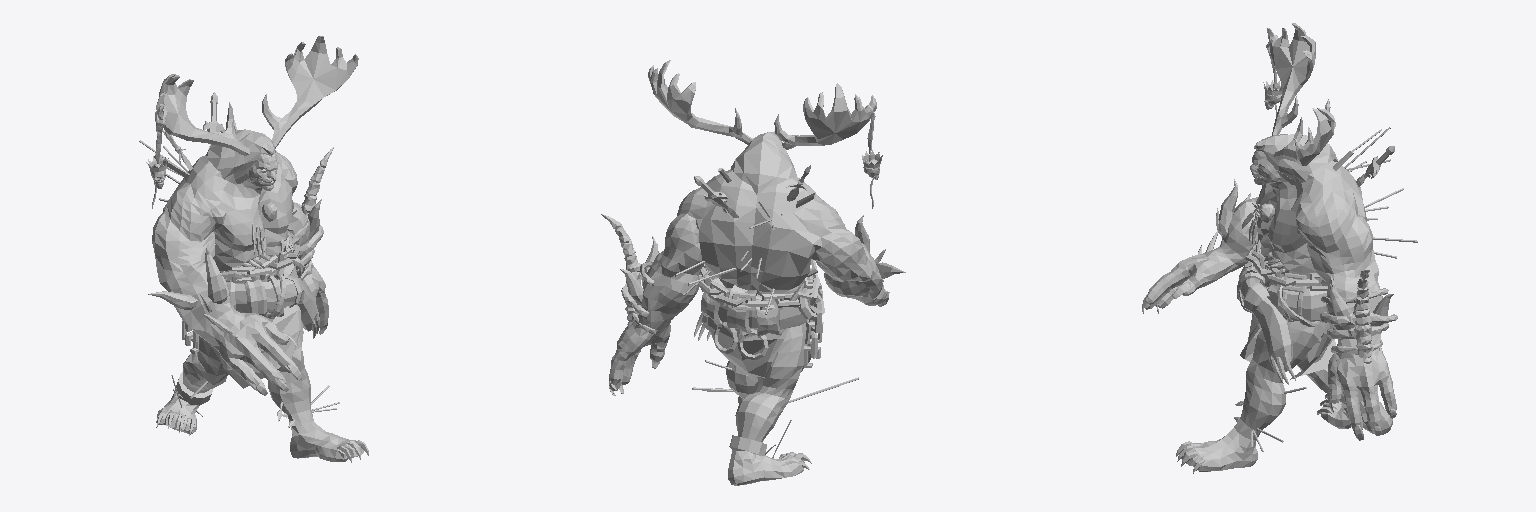
File: walking_000009.obj
3 views of the same model, side by side, from view 1: azimuth 30°, elevation 25°; view 2: azimuth 150°, elevation 25°; view 3: azimuth 270°, elevation 25° (orthographic).
Visible parts, largest first — view 1: MAW; view 2: MAW; view 3: MAW.
Part boxes in pixels (left/top/right/bottom): MAW: left=139, top=36, right=368, bottom=462; MAW: left=601, top=60, right=905, bottom=485; MAW: left=1142, top=23, right=1417, bottom=473.
Bounding box in the file's own units: 15.01 × 22.73 × 14.56.